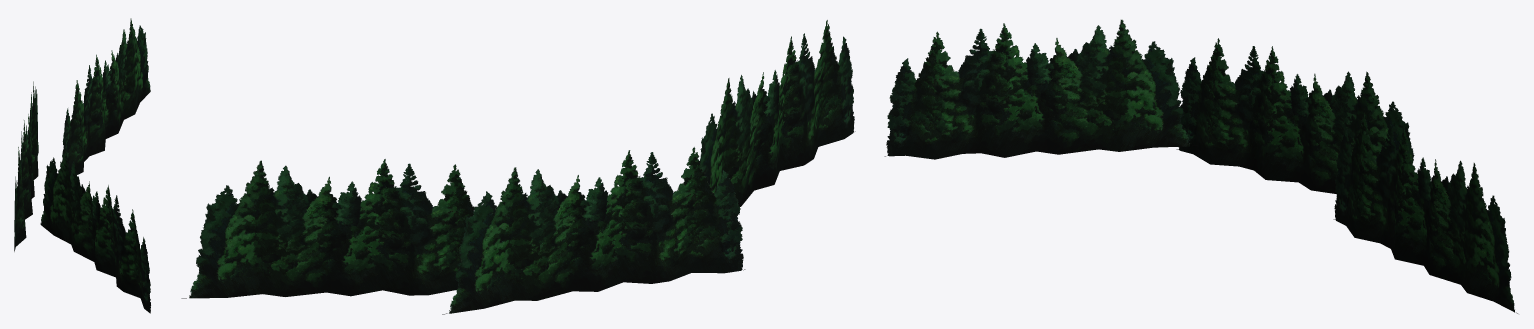
The picture shows the model from 3 angles, left to right: view 1: azimuth 30°, elevation 25°; view 2: azimuth 150°, elevation 25°; view 3: azimuth 270°, elevation 25°; orthographic projection. The views are drawn at different scales.
Parts seen in each view (by area): view 1: sa00zkic01_001_002.001; view 2: sa00zkic01_001_002.001; view 3: sa00zkic01_001_002.001.
Boxes of the visible parts, x1,y1,x2,y2 form: sa00zkic01_001_002.001: (14, 18, 150, 313); sa00zkic01_001_002.001: (181, 20, 855, 314); sa00zkic01_001_002.001: (884, 19, 1517, 313).
Bounding box in the file's own units: 85.68 × 35.53 × 131.
1 material, 1 textured.
